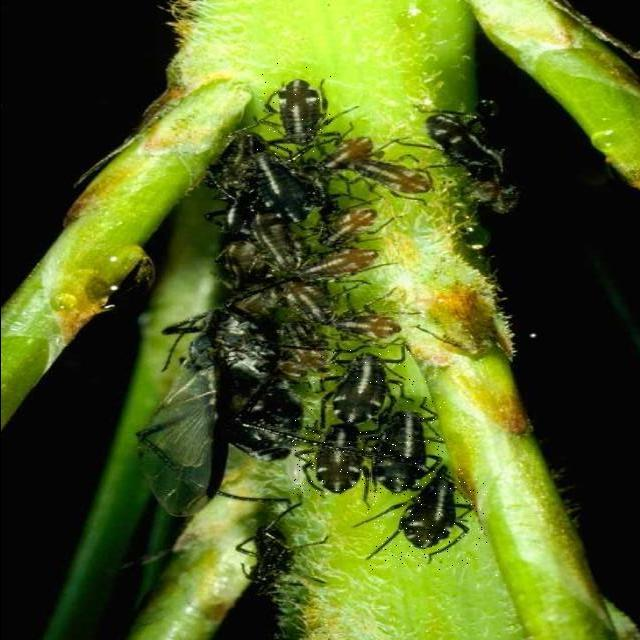aphid: (366, 467, 486, 570), (306, 348, 429, 423), (372, 397, 447, 504), (256, 62, 332, 154), (292, 418, 369, 497)
